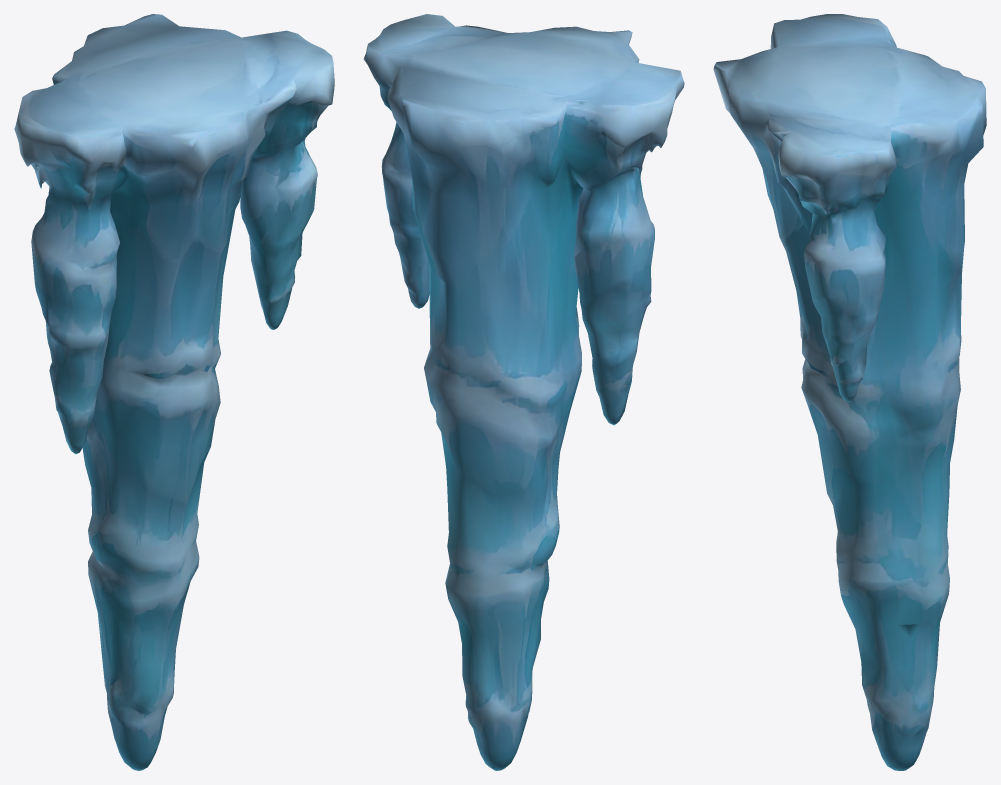
File: SM_Tripo_FrostIcicle.glb
3 views of the same model, side by side, from view 1: azimuth 30°, elevation 25°; view 2: azimuth 150°, elevation 25°; view 3: azimuth 270°, elevation 25° (orthographic). The views are drawn at different scales.
Visible parts, largest first — view 1: SM_Tripo_FrostIcicle_LOD0; view 2: SM_Tripo_FrostIcicle_LOD0; view 3: SM_Tripo_FrostIcicle_LOD0.
Boxes of the visible parts, x1,y1,x2,y2 form: SM_Tripo_FrostIcicle_LOD0: [14, 14, 334, 770]; SM_Tripo_FrostIcicle_LOD0: [363, 14, 684, 770]; SM_Tripo_FrostIcicle_LOD0: [713, 14, 986, 770].
Size of the model in its own units: 2.02 by 4.54 by 1.63.
Materials: 1 (1 with a texture image).
